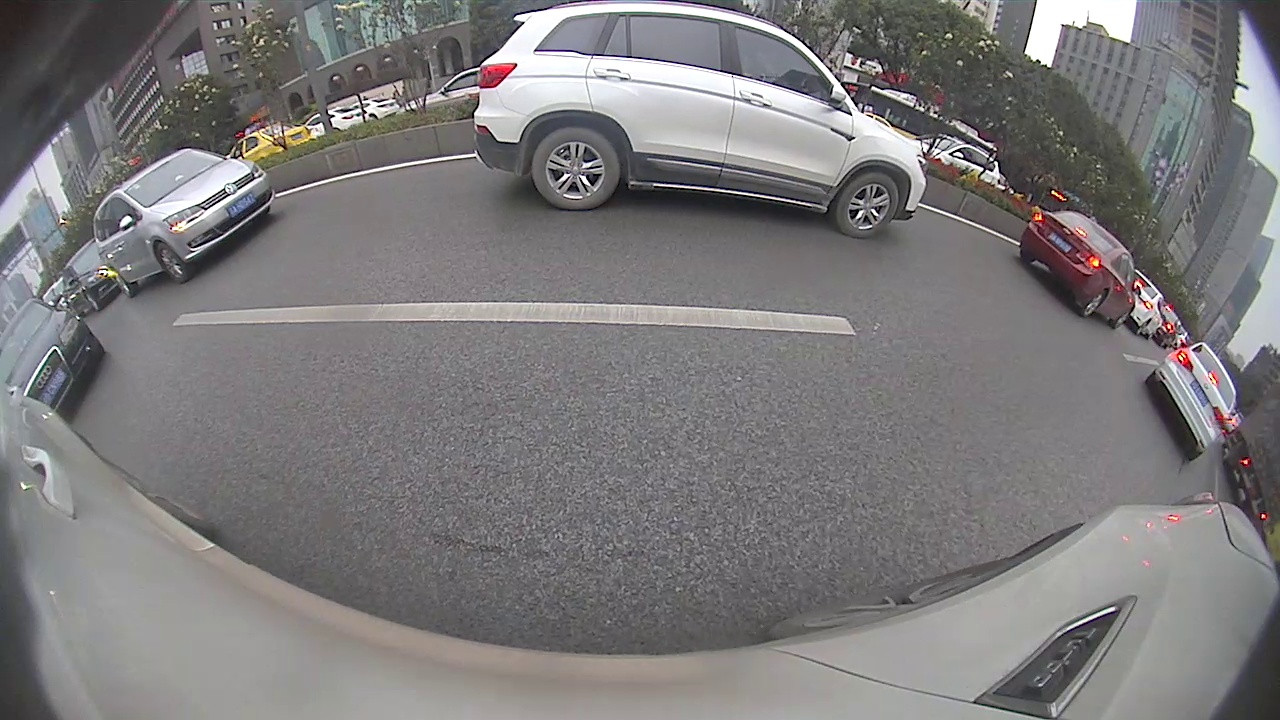car: (472, 1, 927, 238), (93, 148, 274, 298), (1018, 210, 1136, 329), (2, 298, 103, 416), (1144, 341, 1238, 459)
front: (837, 176, 900, 237), (156, 241, 188, 286)
rear: (531, 131, 619, 211), (1080, 288, 1109, 319), (109, 269, 135, 298)
